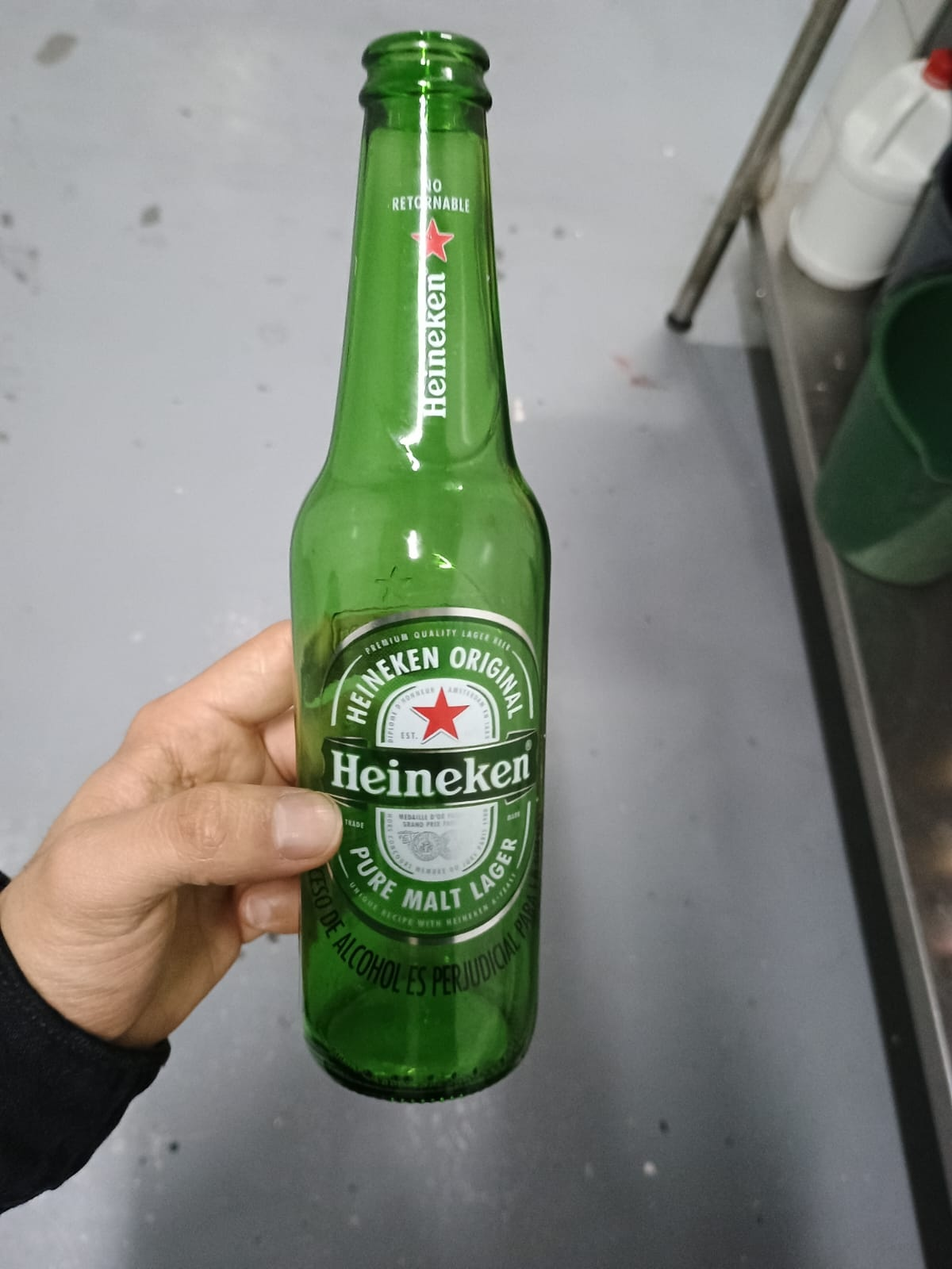Vidrio: (292, 28, 554, 1103)
